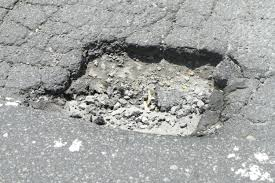pothole: (28, 32, 243, 152)
